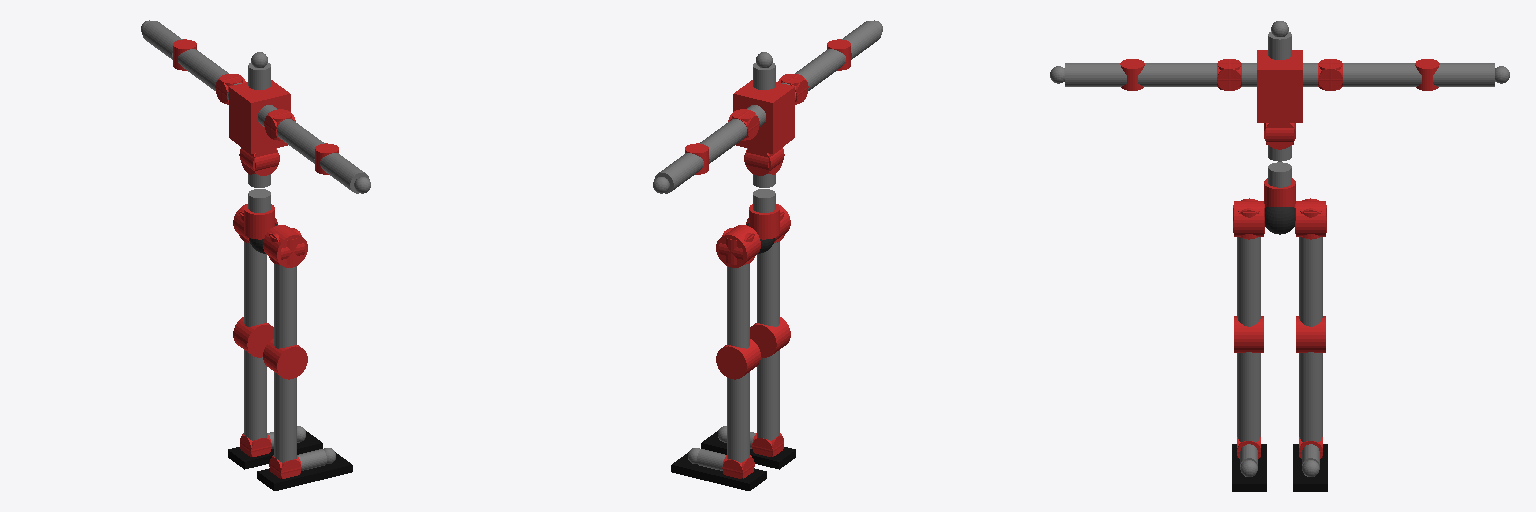
--- Facts derived from the render (not from the file) ---
3 views of the same robot in one strip: view 1: azimuth 30°, elevation 25°; view 2: azimuth 150°, elevation 25°; view 3: azimuth 270°, elevation 25° (orthographic).
Model custom_g1_bot with 25 links and 24 joints (23 revolute, 1 floating), rooted at world, posed every joint at zero.
Visible links, largest first — view 1: torso_pitch_link, right_knee_link, left_knee_link, right_hip_yaw_link, right_ankle_roll_link, left_hip_yaw_link, waist_yaw_link, right_elbow_link, left_ankle_roll_link, left_elbow_link, right_shoulder_yaw_link, left_shoulder_yaw_link (+1 smaller); view 2: torso_pitch_link, left_knee_link, right_knee_link, left_hip_yaw_link, left_ankle_roll_link, right_hip_yaw_link, waist_yaw_link, left_elbow_link, right_ankle_roll_link, right_elbow_link, left_shoulder_yaw_link, right_shoulder_yaw_link (+1 smaller); view 3: torso_pitch_link, left_knee_link, right_knee_link, left_hip_yaw_link, right_hip_yaw_link, left_elbow_link, right_elbow_link, left_shoulder_yaw_link, right_shoulder_yaw_link, left_ankle_roll_link, right_ankle_roll_link, waist_yaw_link (+3 smaller).
Boxes of the visible links, bbox=[...] form: torso_pitch_link: bbox=[228, 52, 290, 175]; right_knee_link: bbox=[263, 339, 307, 462]; left_knee_link: bbox=[233, 317, 273, 440]; right_hip_yaw_link: bbox=[270, 228, 300, 348]; right_ankle_roll_link: bbox=[257, 448, 352, 490]; left_hip_yaw_link: bbox=[240, 211, 266, 326]; waist_yaw_link: bbox=[244, 174, 274, 239]; right_elbow_link: bbox=[315, 143, 370, 193]; left_ankle_roll_link: bbox=[228, 426, 322, 469]; left_elbow_link: bbox=[141, 20, 196, 70]; right_shoulder_yaw_link: bbox=[269, 109, 324, 163]; left_shoulder_yaw_link: bbox=[178, 49, 242, 104]; torso_pitch_link: bbox=[733, 52, 795, 175]; left_knee_link: bbox=[716, 339, 760, 462]; right_knee_link: bbox=[750, 317, 790, 440]; left_hip_yaw_link: bbox=[723, 228, 753, 348]; left_ankle_roll_link: bbox=[671, 448, 766, 490]; right_hip_yaw_link: bbox=[757, 211, 783, 326]; waist_yaw_link: bbox=[749, 174, 779, 239]; left_elbow_link: bbox=[653, 143, 708, 193]; right_ankle_roll_link: bbox=[701, 426, 795, 469]; right_elbow_link: bbox=[827, 20, 882, 70]; left_shoulder_yaw_link: bbox=[699, 109, 754, 163]; right_shoulder_yaw_link: bbox=[781, 49, 845, 104]; torso_pitch_link: bbox=[1242, 21, 1317, 144]; left_knee_link: bbox=[1296, 316, 1325, 441]; right_knee_link: bbox=[1234, 316, 1263, 441]; left_hip_yaw_link: bbox=[1295, 200, 1326, 326]; right_hip_yaw_link: bbox=[1233, 200, 1264, 326]; left_elbow_link: bbox=[1415, 59, 1509, 90]; right_elbow_link: bbox=[1050, 59, 1144, 90]; left_shoulder_yaw_link: bbox=[1318, 59, 1421, 90]; right_shoulder_yaw_link: bbox=[1138, 59, 1241, 90]; left_ankle_roll_link: bbox=[1293, 441, 1327, 491]; right_ankle_roll_link: bbox=[1232, 441, 1266, 491]; waist_yaw_link: bbox=[1264, 145, 1295, 207].
Bounding box of the posed robot: 0.1823 × 0.7848 × 0.8186 m (x, y, z).
Geometry: primitives only (box / cylinder / sphere), no mesh files.

URDF robot description (custom_g1_bot):
<robot name="custom_g1_bot">
  <mujoco>
    <compiler meshdir="meshes" discardvisual="false"/>
  </mujoco>

  <!-- [CAUTION] uncomment when convert to mujoco -->
  <link name="world"></link>
  <joint name="floating_base_joint" type="floating">
    <parent link="world"/>
    <child link="pelvis"/>
  </joint>
  <link name="pelvis">
    <inertial>
      <mass value="0.0100"/>
      <origin xyz="0.000000 0.000000 0.000000" rpy="0 0 0"/>
      <inertia ixx="0.000010" ixy="0" ixz="0" iyy="0.000010" iyz="0" izz="0.000010"/>
    </inertial>
    <visual><origin xyz="0.0000 0.0000 0.0000" rpy="0.0000 0.0000 0.0000"/><geometry><sphere radius="0.03"/></geometry><material name="Base"><color rgba="0.2 0.2 0.2 1"/></material></visual>
    <collision><origin xyz="0.0000 0.0000 0.0000" rpy="0.0000 0.0000 0.0000"/><geometry><sphere radius="0.03"/></geometry></collision>
  </link>
  <link name="left_hip_pitch_link">
    <inertial>
      <mass value="0.4800"/>
      <origin xyz="0.000000 0.000000 0.000000" rpy="0 0 0"/>
      <inertia ixx="0.000220" ixy="0" ixz="0" iyy="0.000220" iyz="0" izz="0.000238"/>
    </inertial>
    <visual><origin xyz="0.0000 0.0000 0.0000" rpy="1.5708 0 0"/><geometry><cylinder radius="0.0315" length="0.0502"/></geometry><material name="Motor"><color rgba="0.8 0.2 0.2 1"/></material></visual>
    <collision><origin xyz="0.0000 0.0000 0.0000" rpy="1.5708 0 0"/><geometry><cylinder radius="0.0315" length="0.0502"/></geometry></collision>
  </link>
  <link name="left_hip_roll_link">
    <inertial>
      <mass value="0.3800"/>
      <origin xyz="0.000000 0.000000 0.000000" rpy="0 0 0"/>
      <inertia ixx="0.000145" ixy="0" ixz="0" iyy="0.000145" iyz="0" izz="0.000144"/>
    </inertial>
    <visual><origin xyz="0.0000 0.0000 0.0000" rpy="0 1.5708 0"/><geometry><cylinder radius="0.0275" length="0.048"/></geometry><material name="Motor"><color rgba="0.8 0.2 0.2 1"/></material></visual>
    <collision><origin xyz="0.0000 0.0000 0.0000" rpy="0 1.5708 0"/><geometry><cylinder radius="0.0275" length="0.048"/></geometry></collision>
  </link>
  <link name="left_hip_yaw_link">
    <inertial>
      <mass value="0.4048"/>
      <origin xyz="0.000000 0.000000 -0.006667" rpy="0 0 0"/>
      <inertia ixx="0.000503" ixy="0" ixz="0" iyy="0.000503" iyz="0" izz="0.000149"/>
    </inertial>
    <visual><origin xyz="0.0000 0.0000 0.0000" rpy="0 0 0"/><geometry><cylinder radius="0.0275" length="0.048"/></geometry><material name="Motor"><color rgba="0.8 0.2 0.2 1"/></material></visual><visual><origin xyz="0.0000 0.0000 -0.1087" rpy="0.0000 3.1416 0.0000"/><geometry><cylinder radius="0.02" length="0.1975"/></geometry><material name="Bone"><color rgba="0.5 0.5 0.5 1"/></material></visual>
    <collision><origin xyz="0.0000 0.0000 0.0000" rpy="0 0 0"/><geometry><cylinder radius="0.0275" length="0.048"/></geometry></collision>
  </link>
  <link name="left_knee_link">
    <inertial>
      <mass value="0.5041"/>
      <origin xyz="0.000000 0.000000 -0.005066" rpy="0 0 0"/>
      <inertia ixx="0.000554" ixy="0" ixz="0" iyy="0.000554" iyz="0" izz="0.000243"/>
    </inertial>
    <visual><origin xyz="0.0000 0.0000 0.0000" rpy="1.5708 0 0"/><geometry><cylinder radius="0.0315" length="0.0502"/></geometry><material name="Motor"><color rgba="0.8 0.2 0.2 1"/></material></visual><visual><origin xyz="0.0000 0.0000 -0.1059" rpy="0.0000 3.1416 0.0000"/><geometry><cylinder radius="0.02" length="0.191861"/></geometry><material name="Bone"><color rgba="0.5 0.5 0.5 1"/></material></visual>
    <collision><origin xyz="0.0000 0.0000 0.0000" rpy="1.5708 0 0"/><geometry><cylinder radius="0.0315" length="0.0502"/></geometry></collision>
  </link>
  <link name="left_ankle_pitch_link">
    <inertial>
      <mass value="0.2800"/>
      <origin xyz="0.000000 0.000000 0.000000" rpy="0 0 0"/>
      <inertia ixx="0.000071" ixy="0" ixz="0" iyy="0.000071" iyz="0" izz="0.000062"/>
    </inertial>
    <visual><origin xyz="0.0000 0.0000 0.0000" rpy="1.5708 0 0"/><geometry><cylinder radius="0.021" length="0.0415"/></geometry><material name="Motor"><color rgba="0.8 0.2 0.2 1"/></material></visual>
    <collision><origin xyz="0.0000 0.0000 0.0000" rpy="1.5708 0 0"/><geometry><cylinder radius="0.021" length="0.0415"/></geometry></collision>
  </link>
  <link name="left_ankle_roll_link">
    <inertial>
      <mass value="0.6347"/>
      <origin xyz="0.026041 0.000000 -0.009453" rpy="0 0 0"/>
      <inertia ixx="0.000236" ixy="0" ixz="0" iyy="0.001219" iyz="0" izz="0.001229"/>
    </inertial>
    <visual><origin xyz="0.0000 0.0000 0.0000" rpy="0 1.5708 0"/><geometry><cylinder radius="0.021" length="0.0415"/></geometry><material name="Motor"><color rgba="0.8 0.2 0.2 1"/></material></visual><visual><origin xyz="0.0432 0.0000 0.0000" rpy="-0.0000 1.5708 0.0000"/><geometry><cylinder radius="0.015" length="0.06649999999999999"/></geometry><material name="Bone"><color rgba="0.5 0.5 0.5 1"/></material></visual><visual><origin xyz="0.0400 0.0000 -0.0200" rpy="0.0000 0.0000 0.0000"/><geometry><box size="0.16 0.06 0.015"/></geometry><material name="Foot"><color rgba="0.1 0.1 0.1 1"/></material></visual><visual><origin xyz="0.0865 0.0000 0.0000" rpy="0.0000 0.0000 0.0000"/><geometry><sphere radius="0.015"/></geometry><material name="End"><color rgba="0.5 0.5 0.5 1"/></material></visual>
    <collision><origin xyz="0.0000 0.0000 0.0000" rpy="0 1.5708 0"/><geometry><cylinder radius="0.021" length="0.0415"/></geometry></collision><collision><origin xyz="0.0400 0.0000 -0.0200" rpy="0.0000 0.0000 0.0000"/><geometry><box size="0.16 0.06 0.015"/></geometry></collision><collision><origin xyz="0.0865 0.0000 0.0000" rpy="0.0000 0.0000 0.0000"/><geometry><sphere radius="0.015"/></geometry></collision>
  </link>
  <link name="right_hip_pitch_link">
    <inertial>
      <mass value="0.4800"/>
      <origin xyz="0.000000 0.000000 0.000000" rpy="0 0 0"/>
      <inertia ixx="0.000220" ixy="0" ixz="0" iyy="0.000220" iyz="0" izz="0.000238"/>
    </inertial>
    <visual><origin xyz="0.0000 0.0000 0.0000" rpy="1.5708 0 0"/><geometry><cylinder radius="0.0315" length="0.0502"/></geometry><material name="Motor"><color rgba="0.8 0.2 0.2 1"/></material></visual>
    <collision><origin xyz="0.0000 0.0000 0.0000" rpy="1.5708 0 0"/><geometry><cylinder radius="0.0315" length="0.0502"/></geometry></collision>
  </link>
  <link name="right_hip_roll_link">
    <inertial>
      <mass value="0.3800"/>
      <origin xyz="0.000000 0.000000 0.000000" rpy="0 0 0"/>
      <inertia ixx="0.000145" ixy="0" ixz="0" iyy="0.000145" iyz="0" izz="0.000144"/>
    </inertial>
    <visual><origin xyz="0.0000 0.0000 0.0000" rpy="0 1.5708 0"/><geometry><cylinder radius="0.0275" length="0.048"/></geometry><material name="Motor"><color rgba="0.8 0.2 0.2 1"/></material></visual>
    <collision><origin xyz="0.0000 0.0000 0.0000" rpy="0 1.5708 0"/><geometry><cylinder radius="0.0275" length="0.048"/></geometry></collision>
  </link>
  <link name="right_hip_yaw_link">
    <inertial>
      <mass value="0.4048"/>
      <origin xyz="0.000000 0.000000 -0.006667" rpy="0 0 0"/>
      <inertia ixx="0.000503" ixy="0" ixz="0" iyy="0.000503" iyz="0" izz="0.000149"/>
    </inertial>
    <visual><origin xyz="0.0000 0.0000 0.0000" rpy="0 0 0"/><geometry><cylinder radius="0.0275" length="0.048"/></geometry><material name="Motor"><color rgba="0.8 0.2 0.2 1"/></material></visual><visual><origin xyz="0.0000 0.0000 -0.1087" rpy="0.0000 3.1416 0.0000"/><geometry><cylinder radius="0.02" length="0.1975"/></geometry><material name="Bone"><color rgba="0.5 0.5 0.5 1"/></material></visual>
    <collision><origin xyz="0.0000 0.0000 0.0000" rpy="0 0 0"/><geometry><cylinder radius="0.0275" length="0.048"/></geometry></collision>
  </link>
  <link name="right_knee_link">
    <inertial>
      <mass value="0.5041"/>
      <origin xyz="0.000000 0.000000 -0.005066" rpy="0 0 0"/>
      <inertia ixx="0.000554" ixy="0" ixz="0" iyy="0.000554" iyz="0" izz="0.000243"/>
    </inertial>
    <visual><origin xyz="0.0000 0.0000 0.0000" rpy="1.5708 0 0"/><geometry><cylinder radius="0.0315" length="0.0502"/></geometry><material name="Motor"><color rgba="0.8 0.2 0.2 1"/></material></visual><visual><origin xyz="0.0000 0.0000 -0.1059" rpy="0.0000 3.1416 0.0000"/><geometry><cylinder radius="0.02" length="0.191861"/></geometry><material name="Bone"><color rgba="0.5 0.5 0.5 1"/></material></visual>
    <collision><origin xyz="0.0000 0.0000 0.0000" rpy="1.5708 0 0"/><geometry><cylinder radius="0.0315" length="0.0502"/></geometry></collision>
  </link>
  <link name="right_ankle_pitch_link">
    <inertial>
      <mass value="0.2800"/>
      <origin xyz="0.000000 0.000000 0.000000" rpy="0 0 0"/>
      <inertia ixx="0.000071" ixy="0" ixz="0" iyy="0.000071" iyz="0" izz="0.000062"/>
    </inertial>
    <visual><origin xyz="0.0000 0.0000 0.0000" rpy="1.5708 0 0"/><geometry><cylinder radius="0.021" length="0.0415"/></geometry><material name="Motor"><color rgba="0.8 0.2 0.2 1"/></material></visual>
    <collision><origin xyz="0.0000 0.0000 0.0000" rpy="1.5708 0 0"/><geometry><cylinder radius="0.021" length="0.0415"/></geometry></collision>
  </link>
  <link name="right_ankle_roll_link">
    <inertial>
      <mass value="0.6347"/>
      <origin xyz="0.026041 0.000000 -0.009453" rpy="0 0 0"/>
      <inertia ixx="0.000236" ixy="0" ixz="0" iyy="0.001219" iyz="0" izz="0.001229"/>
    </inertial>
    <visual><origin xyz="0.0000 0.0000 0.0000" rpy="0 1.5708 0"/><geometry><cylinder radius="0.021" length="0.0415"/></geometry><material name="Motor"><color rgba="0.8 0.2 0.2 1"/></material></visual><visual><origin xyz="0.0432 0.0000 0.0000" rpy="-0.0000 1.5708 0.0000"/><geometry><cylinder radius="0.015" length="0.06649999999999999"/></geometry><material name="Bone"><color rgba="0.5 0.5 0.5 1"/></material></visual><visual><origin xyz="0.0400 0.0000 -0.0200" rpy="0.0000 0.0000 0.0000"/><geometry><box size="0.16 0.06 0.015"/></geometry><material name="Foot"><color rgba="0.1 0.1 0.1 1"/></material></visual><visual><origin xyz="0.0865 0.0000 0.0000" rpy="0.0000 0.0000 0.0000"/><geometry><sphere radius="0.015"/></geometry><material name="End"><color rgba="0.5 0.5 0.5 1"/></material></visual>
    <collision><origin xyz="0.0000 0.0000 0.0000" rpy="0 1.5708 0"/><geometry><cylinder radius="0.021" length="0.0415"/></geometry></collision><collision><origin xyz="0.0400 0.0000 -0.0200" rpy="0.0000 0.0000 0.0000"/><geometry><box size="0.16 0.06 0.015"/></geometry></collision><collision><origin xyz="0.0865 0.0000 0.0000" rpy="0.0000 0.0000 0.0000"/><geometry><sphere radius="0.015"/></geometry></collision>
  </link>
  <link name="waist_yaw_link">
    <inertial>
      <mass value="0.3906"/>
      <origin xyz="0.000000 0.000000 0.001693" rpy="0 0 0"/>
      <inertia ixx="0.000198" ixy="0" ixz="0" iyy="0.000198" iyz="0" izz="0.000146"/>
    </inertial>
    <visual><origin xyz="0.0000 0.0000 0.0000" rpy="0 0 0"/><geometry><cylinder radius="0.0275" length="0.048"/></geometry><material name="Motor"><color rgba="0.8 0.2 0.2 1"/></material></visual><visual><origin xyz="0.0000 0.0000 0.0315" rpy="0.0000 0.0000 0.0000"/><geometry><cylinder radius="0.02" length="0.04293999999999999"/></geometry><material name="Bone"><color rgba="0.5 0.5 0.5 1"/></material></visual><visual><origin xyz="0.0000 0.0000 0.0938" rpy="0.0000 0.0000 0.0000"/><geometry><cylinder radius="0.02" length="0.04171599999999999"/></geometry><material name="Bone"><color rgba="0.5 0.5 0.5 1"/></material></visual>
    <collision><origin xyz="0.0000 0.0000 0.0000" rpy="0 0 0"/><geometry><cylinder radius="0.0275" length="0.048"/></geometry></collision>
  </link>
  <link name="waist_roll_link">
    <inertial>
      <mass value="0.3800"/>
      <origin xyz="0.000000 0.000000 0.000000" rpy="0 0 0"/>
      <inertia ixx="0.000145" ixy="0" ixz="0" iyy="0.000145" iyz="0" izz="0.000144"/>
    </inertial>
    <visual><origin xyz="0.0000 0.0000 0.0000" rpy="0 1.5708 0"/><geometry><cylinder radius="0.0275" length="0.048"/></geometry><material name="Motor"><color rgba="0.8 0.2 0.2 1"/></material></visual>
    <collision><origin xyz="0.0000 0.0000 0.0000" rpy="0 1.5708 0"/><geometry><cylinder radius="0.0275" length="0.048"/></geometry></collision>
  </link>
  <link name="torso_pitch_link">
    <inertial>
      <mass value="2.4578"/>
      <origin xyz="-0.000028 0.000000 0.069968" rpy="0 0 0"/>
      <inertia ixx="0.005736" ixy="0" ixz="0" iyy="0.005706" iyz="0" izz="0.002319"/>
    </inertial>
    <visual><origin xyz="0.0000 0.0000 0.0000" rpy="1.5708 0 0"/><geometry><cylinder radius="0.0275" length="0.048"/></geometry><material name="Motor"><color rgba="0.8 0.2 0.2 1"/></material></visual><visual><origin xyz="0.0000 0.0000 0.0646" rpy="0.0000 0.0000 0.0000"/><geometry><cylinder radius="0.02" length="0.109164"/></geometry><material name="Bone"><color rgba="0.5 0.5 0.5 1"/></material></visual><visual><origin xyz="0.0000 0.0000 0.1586" rpy="0.0000 0.0000 0.0000"/><geometry><cylinder radius="0.02" length="0.03883299999999999"/></geometry><material name="Bone"><color rgba="0.5 0.5 0.5 1"/></material></visual><visual><origin xyz="0.0000 0.0000 0.1880" rpy="0.0000 0.0000 0.0000"/><geometry><sphere radius="0.015"/></geometry><material name="End"><color rgba="0.5 0.5 0.5 1"/></material></visual><visual><origin xyz="-0.0074 0.0582 0.0987" rpy="-1.5708 0.0000 0.0000"/><geometry><cylinder radius="0.02" length="0.036420999999999995"/></geometry><material name="Bone"><color rgba="0.5 0.5 0.5 1"/></material></visual><visual><origin xyz="-0.0074 -0.0582 0.0987" rpy="1.5708 0.0000 0.0000"/><geometry><cylinder radius="0.02" length="0.036420999999999995"/></geometry><material name="Bone"><color rgba="0.5 0.5 0.5 1"/></material></visual><visual><origin xyz="0.0000 0.0000 0.0800" rpy="0.0000 0.0000 0.0000"/><geometry><box size="0.08 0.08 0.1"/></geometry><material name="Motor"><color rgba="0.8 0.2 0.2 1"/></material></visual>
    <collision><origin xyz="0.0000 0.0000 0.0000" rpy="1.5708 0 0"/><geometry><cylinder radius="0.0275" length="0.048"/></geometry></collision><collision><origin xyz="0.0000 0.0000 0.1880" rpy="0.0000 0.0000 0.0000"/><geometry><sphere radius="0.015"/></geometry></collision><collision><origin xyz="0.0000 0.0000 0.0800" rpy="0.0000 0.0000 0.0000"/><geometry><box size="0.08 0.08 0.1"/></geometry></collision>
  </link>
  <link name="left_shoulder_pitch_link">
    <inertial>
      <mass value="0.2800"/>
      <origin xyz="0.000000 0.000000 0.000000" rpy="0 0 0"/>
      <inertia ixx="0.000071" ixy="0" ixz="0" iyy="0.000071" iyz="0" izz="0.000062"/>
    </inertial>
    <visual><origin xyz="0.0000 0.0000 0.0000" rpy="1.5708 0 0"/><geometry><cylinder radius="0.021" length="0.0415"/></geometry><material name="Motor"><color rgba="0.8 0.2 0.2 1"/></material></visual>
    <collision><origin xyz="0.0000 0.0000 0.0000" rpy="1.5708 0 0"/><geometry><cylinder radius="0.021" length="0.0415"/></geometry></collision>
  </link>
  <link name="left_shoulder_roll_link">
    <inertial>
      <mass value="0.2800"/>
      <origin xyz="0.000000 0.000000 0.000000" rpy="0 0 0"/>
      <inertia ixx="0.000071" ixy="0" ixz="0" iyy="0.000071" iyz="0" izz="0.000062"/>
    </inertial>
    <visual><origin xyz="0.0000 0.0000 0.0000" rpy="0 1.5708 0"/><geometry><cylinder radius="0.021" length="0.0415"/></geometry><material name="Motor"><color rgba="0.8 0.2 0.2 1"/></material></visual>
    <collision><origin xyz="0.0000 0.0000 0.0000" rpy="0 1.5708 0"/><geometry><cylinder radius="0.021" length="0.0415"/></geometry></collision>
  </link>
  <link name="left_shoulder_yaw_link">
    <inertial>
      <mass value="0.2982"/>
      <origin xyz="0.000000 0.005041 0.000000" rpy="0 0 0"/>
      <inertia ixx="0.000221" ixy="0" ixz="0" iyy="0.000105" iyz="0" izz="0.000182"/>
    </inertial>
    <visual><origin xyz="0.0000 0.0000 0.0000" rpy="0 0 0"/><geometry><cylinder radius="0.021" length="0.0415"/></geometry><material name="Motor"><color rgba="0.8 0.2 0.2 1"/></material></visual><visual><origin xyz="0.0000 0.0825 0.0000" rpy="-1.5708 0.0000 0.0000"/><geometry><cylinder radius="0.02" length="0.14500000000000002"/></geometry><material name="Bone"><color rgba="0.5 0.5 0.5 1"/></material></visual>
    <collision><origin xyz="0.0000 0.0000 0.0000" rpy="0 0 0"/><geometry><cylinder radius="0.021" length="0.0415"/></geometry></collision>
  </link>
  <link name="left_elbow_link">
    <inertial>
      <mass value="0.3433"/>
      <origin xyz="0.000000 0.020795 0.000000" rpy="0 0 0"/>
      <inertia ixx="0.000788" ixy="0" ixz="0" iyy="0.000089" iyz="0" izz="0.000767"/>
    </inertial>
    <visual><origin xyz="0.0000 0.0000 0.0000" rpy="0 0 0"/><geometry><cylinder radius="0.021" length="0.0415"/></geometry><material name="Motor"><color rgba="0.8 0.2 0.2 1"/></material></visual><visual><origin xyz="0.0000 0.0630 0.0000" rpy="-1.5708 0.0000 0.0000"/><geometry><cylinder radius="0.02" length="0.106"/></geometry><material name="Bone"><color rgba="0.5 0.5 0.5 1"/></material></visual><visual><origin xyz="0.0000 0.1260 0.0000" rpy="0.0000 0.0000 0.0000"/><geometry><sphere radius="0.015"/></geometry><material name="End"><color rgba="0.5 0.5 0.5 1"/></material></visual>
    <collision><origin xyz="0.0000 0.0000 0.0000" rpy="0 0 0"/><geometry><cylinder radius="0.021" length="0.0415"/></geometry></collision><collision><origin xyz="0.0000 0.1260 0.0000" rpy="0.0000 0.0000 0.0000"/><geometry><sphere radius="0.015"/></geometry></collision>
  </link>
  <link name="right_shoulder_pitch_link">
    <inertial>
      <mass value="0.2800"/>
      <origin xyz="0.000000 0.000000 0.000000" rpy="0 0 0"/>
      <inertia ixx="0.000071" ixy="0" ixz="0" iyy="0.000071" iyz="0" izz="0.000062"/>
    </inertial>
    <visual><origin xyz="0.0000 0.0000 0.0000" rpy="1.5708 0 0"/><geometry><cylinder radius="0.021" length="0.0415"/></geometry><material name="Motor"><color rgba="0.8 0.2 0.2 1"/></material></visual>
    <collision><origin xyz="0.0000 0.0000 0.0000" rpy="1.5708 0 0"/><geometry><cylinder radius="0.021" length="0.0415"/></geometry></collision>
  </link>
  <link name="right_shoulder_roll_link">
    <inertial>
      <mass value="0.2800"/>
      <origin xyz="0.000000 0.000000 0.000000" rpy="0 0 0"/>
      <inertia ixx="0.000071" ixy="0" ixz="0" iyy="0.000071" iyz="0" izz="0.000062"/>
    </inertial>
    <visual><origin xyz="0.0000 0.0000 0.0000" rpy="0 1.5708 0"/><geometry><cylinder radius="0.021" length="0.0415"/></geometry><material name="Motor"><color rgba="0.8 0.2 0.2 1"/></material></visual>
    <collision><origin xyz="0.0000 0.0000 0.0000" rpy="0 1.5708 0"/><geometry><cylinder radius="0.021" length="0.0415"/></geometry></collision>
  </link>
  <link name="right_shoulder_yaw_link">
    <inertial>
      <mass value="0.2982"/>
      <origin xyz="0.000000 -0.005041 0.000000" rpy="0 0 0"/>
      <inertia ixx="0.000221" ixy="0" ixz="0" iyy="0.000105" iyz="0" izz="0.000182"/>
    </inertial>
    <visual><origin xyz="0.0000 0.0000 0.0000" rpy="0 0 0"/><geometry><cylinder radius="0.021" length="0.0415"/></geometry><material name="Motor"><color rgba="0.8 0.2 0.2 1"/></material></visual><visual><origin xyz="0.0000 -0.0825 0.0000" rpy="1.5708 0.0000 0.0000"/><geometry><cylinder radius="0.02" length="0.14500100000000002"/></geometry><material name="Bone"><color rgba="0.5 0.5 0.5 1"/></material></visual>
    <collision><origin xyz="0.0000 0.0000 0.0000" rpy="0 0 0"/><geometry><cylinder radius="0.021" length="0.0415"/></geometry></collision>
  </link>
  <link name="right_elbow_link">
    <inertial>
      <mass value="0.3433"/>
      <origin xyz="0.000000 -0.020794 0.000000" rpy="0 0 0"/>
      <inertia ixx="0.000788" ixy="0" ixz="0" iyy="0.000089" iyz="0" izz="0.000767"/>
    </inertial>
    <visual><origin xyz="0.0000 0.0000 0.0000" rpy="0 0 0"/><geometry><cylinder radius="0.021" length="0.0415"/></geometry><material name="Motor"><color rgba="0.8 0.2 0.2 1"/></material></visual><visual><origin xyz="0.0000 -0.0630 0.0000" rpy="1.5708 0.0000 0.0000"/><geometry><cylinder radius="0.02" length="0.10599900001984143"/></geometry><material name="Bone"><color rgba="0.5 0.5 0.5 1"/></material></visual><visual><origin xyz="0.0000 -0.1260 0.0000" rpy="0.0000 0.0000 0.0000"/><geometry><sphere radius="0.015"/></geometry><material name="End"><color rgba="0.5 0.5 0.5 1"/></material></visual>
    <collision><origin xyz="0.0000 0.0000 0.0000" rpy="0 0 0"/><geometry><cylinder radius="0.021" length="0.0415"/></geometry></collision><collision><origin xyz="0.0000 -0.1260 0.0000" rpy="0.0000 0.0000 0.0000"/><geometry><sphere radius="0.015"/></geometry></collision>
  </link>
  <joint name="left_hip_pitch_joint" type="revolute">
    <parent link="pelvis"/>
    <child link="left_hip_pitch_link"/>
    <origin xyz="0.0093 0.0527 0.0005" rpy="0.0000 0.0000 0.0000"/>
    <axis xyz="0 1 0"/>
    <dynamics damping="0.1" friction="0.0"/>
    <limit lower="-3.14" upper="3.14" effort="55.0" velocity="20.0"/>
  </joint>

  <joint name="left_hip_roll_joint" type="revolute">
    <parent link="left_hip_pitch_link"/>
    <child link="left_hip_roll_link"/>
    <origin xyz="0.0000 0.0000 0.0000" rpy="0.0000 0.0000 0.0000"/>
    <axis xyz="1 0 0"/>
    <dynamics damping="0.1" friction="0.0"/>
    <limit lower="-3.14" upper="3.14" effort="25.0" velocity="20.0"/>
  </joint>

  <joint name="left_hip_yaw_joint" type="revolute">
    <parent link="left_hip_roll_link"/>
    <child link="left_hip_yaw_link"/>
    <origin xyz="0.0000 0.0000 0.0000" rpy="0.0000 0.0000 0.0000"/>
    <axis xyz="0 0 1"/>
    <dynamics damping="0.1" friction="0.0"/>
    <limit lower="-3.14" upper="3.14" effort="25.0" velocity="20.0"/>
  </joint>

  <joint name="left_knee_joint" type="revolute">
    <parent link="left_hip_yaw_link"/>
    <child link="left_knee_link"/>
    <origin xyz="0.0000 0.0000 -0.2175" rpy="0.0000 0.0000 0.0000"/>
    <axis xyz="0 1 0"/>
    <dynamics damping="0.1" friction="0.0"/>
    <limit lower="-3.14" upper="3.14" effort="55.0" velocity="20.0"/>
  </joint>

  <joint name="left_ankle_pitch_joint" type="revolute">
    <parent link="left_knee_link"/>
    <child link="left_ankle_pitch_link"/>
    <origin xyz="0.0000 0.0000 -0.2119" rpy="0.0000 0.0000 0.0000"/>
    <axis xyz="0 1 0"/>
    <dynamics damping="0.1" friction="0.0"/>
    <limit lower="-3.14" upper="3.14" effort="10.0" velocity="20.0"/>
  </joint>

  <joint name="left_ankle_roll_joint" type="revolute">
    <parent link="left_ankle_pitch_link"/>
    <child link="left_ankle_roll_link"/>
    <origin xyz="0.0000 0.0000 0.0000" rpy="0.0000 0.0000 0.0000"/>
    <axis xyz="1 0 0"/>
    <dynamics damping="0.1" friction="0.0"/>
    <limit lower="-3.14" upper="3.14" effort="10.0" velocity="20.0"/>
  </joint>

  <joint name="right_hip_pitch_joint" type="revolute">
    <parent link="pelvis"/>
    <child link="right_hip_pitch_link"/>
    <origin xyz="0.0093 -0.0527 0.0005" rpy="0.0000 0.0000 0.0000"/>
    <axis xyz="0 1 0"/>
    <dynamics damping="0.1" friction="0.0"/>
    <limit lower="-3.14" upper="3.14" effort="55.0" velocity="20.0"/>
  </joint>

  <joint name="right_hip_roll_joint" type="revolute">
    <parent link="right_hip_pitch_link"/>
    <child link="right_hip_roll_link"/>
    <origin xyz="0.0000 0.0000 0.0000" rpy="0.0000 0.0000 0.0000"/>
    <axis xyz="1 0 0"/>
    <dynamics damping="0.1" friction="0.0"/>
    <limit lower="-3.14" upper="3.14" effort="25.0" velocity="20.0"/>
  </joint>

  <joint name="right_hip_yaw_joint" type="revolute">
    <parent link="right_hip_roll_link"/>
    <child link="right_hip_yaw_link"/>
    <origin xyz="0.0000 0.0000 0.0000" rpy="0.0000 0.0000 0.0000"/>
    <axis xyz="0 0 1"/>
    <dynamics damping="0.1" friction="0.0"/>
    <limit lower="-3.14" upper="3.14" effort="25.0" velocity="20.0"/>
  </joint>

  <joint name="right_knee_joint" type="revolute">
    <parent link="right_hip_yaw_link"/>
    <child link="right_knee_link"/>
    <origin xyz="0.0000 0.0000 -0.2175" rpy="0.0000 0.0000 0.0000"/>
    <axis xyz="0 1 0"/>
    <dynamics damping="0.1" friction="0.0"/>
    <limit lower="-3.14" upper="3.14" effort="55.0" velocity="20.0"/>
  </joint>

  <joint name="right_ankle_pitch_joint" type="revolute">
    <parent link="right_knee_link"/>
    <child link="right_ankle_pitch_link"/>
    <origin xyz="0.0000 0.0000 -0.2119" rpy="0.0000 0.0000 0.0000"/>
    <axis xyz="0 1 0"/>
    <dynamics damping="0.1" friction="0.0"/>
    <limit lower="-3.14" upper="3.14" effort="10.0" velocity="20.0"/>
  </joint>

  <joint name="right_ankle_roll_joint" type="revolute">
    <parent link="right_ankle_pitch_link"/>
    <child link="right_ankle_roll_link"/>
    <origin xyz="0.0000 0.0000 0.0000" rpy="0.0000 0.0000 0.0000"/>
    <axis xyz="1 0 0"/>
    <dynamics damping="0.1" friction="0.0"/>
    <limit lower="-3.14" upper="3.14" effort="10.0" velocity="20.0"/>
  </joint>

  <joint name="waist_yaw_joint" type="revolute">
    <parent link="pelvis"/>
    <child link="waist_yaw_link"/>
    <origin xyz="-0.0130 0.0000 0.0345" rpy="0.0000 0.0000 0.0000"/>
    <axis xyz="0 0 1"/>
    <dynamics damping="0.1" friction="0.0"/>
    <limit lower="-3.14" upper="3.14" effort="25.0" velocity="20.0"/>
  </joint>

  <joint name="waist_roll_joint" type="revolute">
    <parent link="waist_yaw_link"/>
    <child link="waist_roll_link"/>
    <origin xyz="0.0000 0.0000 0.1247" rpy="0.0000 0.0000 0.0000"/>
    <axis xyz="1 0 0"/>
    <dynamics damping="0.1" friction="0.0"/>
    <limit lower="-3.14" upper="3.14" effort="25.0" velocity="20.0"/>
  </joint>

  <joint name="torso_pitch_joint" type="revolute">
    <parent link="waist_roll_link"/>
    <child link="torso_pitch_link"/>
    <origin xyz="0.0000 0.0000 0.0000" rpy="0.0000 0.0000 0.0000"/>
    <axis xyz="0 1 0"/>
    <dynamics damping="0.1" friction="0.0"/>
    <limit lower="-3.14" upper="3.14" effort="25.0" velocity="20.0"/>
  </joint>

  <joint name="left_shoulder_pitch_joint" type="revolute">
    <parent link="torso_pitch_link"/>
    <child link="left_shoulder_pitch_link"/>
    <origin xyz="-0.0074 0.0864 0.0987" rpy="0.0000 0.0000 0.0000"/>
    <axis xyz="0 1 0"/>
    <dynamics damping="0.1" friction="0.0"/>
    <limit lower="-3.14" upper="3.14" effort="10.0" velocity="20.0"/>
  </joint>

  <joint name="left_shoulder_roll_joint" type="revolute">
    <parent link="left_shoulder_pitch_link"/>
    <child link="left_shoulder_roll_link"/>
    <origin xyz="0.0000 0.0000 0.0000" rpy="0.0000 0.0000 0.0000"/>
    <axis xyz="1 0 0"/>
    <dynamics damping="0.1" friction="0.0"/>
    <limit lower="-3.14" upper="3.14" effort="10.0" velocity="20.0"/>
  </joint>

  <joint name="left_shoulder_yaw_joint" type="revolute">
    <parent link="left_shoulder_roll_link"/>
    <child link="left_shoulder_yaw_link"/>
    <origin xyz="0.0000 0.0000 0.0000" rpy="0.0000 0.0000 0.0000"/>
    <axis xyz="0 0 1"/>
    <dynamics damping="0.1" friction="0.0"/>
    <limit lower="-3.14" upper="3.14" effort="10.0" velocity="20.0"/>
  </joint>

  <joint name="left_elbow_joint" type="revolute">
    <parent link="left_shoulder_yaw_link"/>
    <child link="left_elbow_link"/>
    <origin xyz="0.0000 0.1650 0.0000" rpy="0.0000 0.0000 0.0000"/>
    <axis xyz="0 0 1"/>
    <dynamics damping="0.1" friction="0.0"/>
    <limit lower="-3.14" upper="3.14" effort="10.0" velocity="20.0"/>
  </joint>

  <joint name="right_shoulder_pitch_joint" type="revolute">
    <parent link="torso_pitch_link"/>
    <child link="right_shoulder_pitch_link"/>
    <origin xyz="-0.0074 -0.0864 0.0987" rpy="0.0000 0.0000 0.0000"/>
    <axis xyz="0 1 0"/>
    <dynamics damping="0.1" friction="0.0"/>
    <limit lower="-3.14" upper="3.14" effort="10.0" velocity="20.0"/>
  </joint>

  <joint name="right_shoulder_roll_joint" type="revolute">
    <parent link="right_shoulder_pitch_link"/>
    <child link="right_shoulder_roll_link"/>
    <origin xyz="0.0000 0.0000 0.0000" rpy="0.0000 0.0000 0.0000"/>
    <axis xyz="1 0 0"/>
    <dynamics damping="0.1" friction="0.0"/>
    <limit lower="-3.14" upper="3.14" effort="10.0" velocity="20.0"/>
  </joint>

  <joint name="right_shoulder_yaw_joint" type="revolute">
    <parent link="right_shoulder_roll_link"/>
    <child link="right_shoulder_yaw_link"/>
    <origin xyz="0.0000 0.0000 0.0000" rpy="0.0000 0.0000 0.0000"/>
    <axis xyz="0 0 1"/>
    <dynamics damping="0.1" friction="0.0"/>
    <limit lower="-3.14" upper="3.14" effort="10.0" velocity="20.0"/>
  </joint>

  <joint name="right_elbow_joint" type="revolute">
    <parent link="right_shoulder_yaw_link"/>
    <child link="right_elbow_link"/>
    <origin xyz="0.0000 -0.1650 0.0000" rpy="0.0000 0.0000 0.0000"/>
    <axis xyz="0 0 1"/>
    <dynamics damping="0.1" friction="0.0"/>
    <limit lower="-3.14" upper="3.14" effort="10.0" velocity="20.0"/>
  </joint>
<transmission name="trans_left_hip_pitch_joint"><type>transmission_interface/SimpleTransmission</type><joint name="left_hip_pitch_joint"><hardwareInterface>hardware_interface/EffortJointInterface</hardwareInterface></joint><actuator name="motor_left_hip_pitch_joint"><mechanicalReduction>1</mechanicalReduction></actuator></transmission>
<transmission name="trans_left_hip_roll_joint"><type>transmission_interface/SimpleTransmission</type><joint name="left_hip_roll_joint"><hardwareInterface>hardware_interface/EffortJointInterface</hardwareInterface></joint><actuator name="motor_left_hip_roll_joint"><mechanicalReduction>1</mechanicalReduction></actuator></transmission>
<transmission name="trans_left_hip_yaw_joint"><type>transmission_interface/SimpleTransmission</type><joint name="left_hip_yaw_joint"><hardwareInterface>hardware_interface/EffortJointInterface</hardwareInterface></joint><actuator name="motor_left_hip_yaw_joint"><mechanicalReduction>1</mechanicalReduction></actuator></transmission>
<transmission name="trans_left_knee_joint"><type>transmission_interface/SimpleTransmission</type><joint name="left_knee_joint"><hardwareInterface>hardware_interface/EffortJointInterface</hardwareInterface></joint><actuator name="motor_left_knee_joint"><mechanicalReduction>1</mechanicalReduction></actuator></transmission>
<transmission name="trans_left_ankle_pitch_joint"><type>transmission_interface/SimpleTransmission</type><joint name="left_ankle_pitch_joint"><hardwareInterface>hardware_interface/EffortJointInterface</hardwareInterface></joint><actuator name="motor_left_ankle_pitch_joint"><mechanicalReduction>1</mechanicalReduction></actuator></transmission>
<transmission name="trans_left_ankle_roll_joint"><type>transmission_interface/SimpleTransmission</type><joint name="left_ankle_roll_joint"><hardwareInterface>hardware_interface/EffortJointInterface</hardwareInterface></joint><actuator name="motor_left_ankle_roll_joint"><mechanicalReduction>1</mechanicalReduction></actuator></transmission>
<transmission name="trans_right_hip_pitch_joint"><type>transmission_interface/SimpleTransmission</type><joint name="right_hip_pitch_joint"><hardwareInterface>hardware_interface/EffortJointInterface</hardwareInterface></joint><actuator name="motor_right_hip_pitch_joint"><mechanicalReduction>1</mechanicalReduction></actuator></transmission>
<transmission name="trans_right_hip_roll_joint"><type>transmission_interface/SimpleTransmission</type><joint name="right_hip_roll_joint"><hardwareInterface>hardware_interface/EffortJointInterface</hardwareInterface></joint><actuator name="motor_right_hip_roll_joint"><mechanicalReduction>1</mechanicalReduction></actuator></transmission>
<transmission name="trans_right_hip_yaw_joint"><type>transmission_interface/SimpleTransmission</type><joint name="right_hip_yaw_joint"><hardwareInterface>hardware_interface/EffortJointInterface</hardwareInterface></joint><actuator name="motor_right_hip_yaw_joint"><mechanicalReduction>1</mechanicalReduction></actuator></transmission>
<transmission name="trans_right_knee_joint"><type>transmission_interface/SimpleTransmission</type><joint name="right_knee_joint"><hardwareInterface>hardware_interface/EffortJointInterface</hardwareInterface></joint><actuator name="motor_right_knee_joint"><mechanicalReduction>1</mechanicalReduction></actuator></transmission>
<transmission name="trans_right_ankle_pitch_joint"><type>transmission_interface/SimpleTransmission</type><joint name="right_ankle_pitch_joint"><hardwareInterface>hardware_interface/EffortJointInterface</hardwareInterface></joint><actuator name="motor_right_ankle_pitch_joint"><mechanicalReduction>1</mechanicalReduction></actuator></transmission>
<transmission name="trans_right_ankle_roll_joint"><type>transmission_interface/SimpleTransmission</type><joint name="right_ankle_roll_joint"><hardwareInterface>hardware_interface/EffortJointInterface</hardwareInterface></joint><actuator name="motor_right_ankle_roll_joint"><mechanicalReduction>1</mechanicalReduction></actuator></transmission>
<transmission name="trans_waist_yaw_joint"><type>transmission_interface/SimpleTransmission</type><joint name="waist_yaw_joint"><hardwareInterface>hardware_interface/EffortJointInterface</hardwareInterface></joint><actuator name="motor_waist_yaw_joint"><mechanicalReduction>1</mechanicalReduction></actuator></transmission>
<transmission name="trans_waist_roll_joint"><type>transmission_interface/SimpleTransmission</type><joint name="waist_roll_joint"><hardwareInterface>hardware_interface/EffortJointInterface</hardwareInterface></joint><actuator name="motor_waist_roll_joint"><mechanicalReduction>1</mechanicalReduction></actuator></transmission>
<transmission name="trans_torso_pitch_joint"><type>transmission_interface/SimpleTransmission</type><joint name="torso_pitch_joint"><hardwareInterface>hardware_interface/EffortJointInterface</hardwareInterface></joint><actuator name="motor_torso_pitch_joint"><mechanicalReduction>1</mechanicalReduction></actuator></transmission>
<transmission name="trans_left_shoulder_pitch_joint"><type>transmission_interface/SimpleTransmission</type><joint name="left_shoulder_pitch_joint"><hardwareInterface>hardware_interface/EffortJointInterface</hardwareInterface></joint><actuator name="motor_left_shoulder_pitch_joint"><mechanicalReduction>1</mechanicalReduction></actuator></transmission>
<transmission name="trans_left_shoulder_roll_joint"><type>transmission_interface/SimpleTransmission</type><joint name="left_shoulder_roll_joint"><hardwareInterface>hardware_interface/EffortJointInterface</hardwareInterface></joint><actuator name="motor_left_shoulder_roll_joint"><mechanicalReduction>1</mechanicalReduction></actuator></transmission>
<transmission name="trans_left_shoulder_yaw_joint"><type>transmission_interface/SimpleTransmission</type><joint name="left_shoulder_yaw_joint"><hardwareInterface>hardware_interface/EffortJointInterface</hardwareInterface></joint><actuator name="motor_left_shoulder_yaw_joint"><mechanicalReduction>1</mechanicalReduction></actuator></transmission>
<transmission name="trans_left_elbow_joint"><type>transmission_interface/SimpleTransmission</type><joint name="left_elbow_joint"><hardwareInterface>hardware_interface/EffortJointInterface</hardwareInterface></joint><actuator name="motor_left_elbow_joint"><mechanicalReduction>1</mechanicalReduction></actuator></transmission>
<transmission name="trans_right_shoulder_pitch_joint"><type>transmission_interface/SimpleTransmission</type><joint name="right_shoulder_pitch_joint"><hardwareInterface>hardware_interface/EffortJointInterface</hardwareInterface></joint><actuator name="motor_right_shoulder_pitch_joint"><mechanicalReduction>1</mechanicalReduction></actuator></transmission>
<transmission name="trans_right_shoulder_roll_joint"><type>transmission_interface/SimpleTransmission</type><joint name="right_shoulder_roll_joint"><hardwareInterface>hardware_interface/EffortJointInterface</hardwareInterface></joint><actuator name="motor_right_shoulder_roll_joint"><mechanicalReduction>1</mechanicalReduction></actuator></transmission>
<transmission name="trans_right_shoulder_yaw_joint"><type>transmission_interface/SimpleTransmission</type><joint name="right_shoulder_yaw_joint"><hardwareInterface>hardware_interface/EffortJointInterface</hardwareInterface></joint><actuator name="motor_right_shoulder_yaw_joint"><mechanicalReduction>1</mechanicalReduction></actuator></transmission>
<transmission name="trans_right_elbow_joint"><type>transmission_interface/SimpleTransmission</type><joint name="right_elbow_joint"><hardwareInterface>hardware_interface/EffortJointInterface</hardwareInterface></joint><actuator name="motor_right_elbow_joint"><mechanicalReduction>1</mechanicalReduction></actuator></transmission>
</robot>
